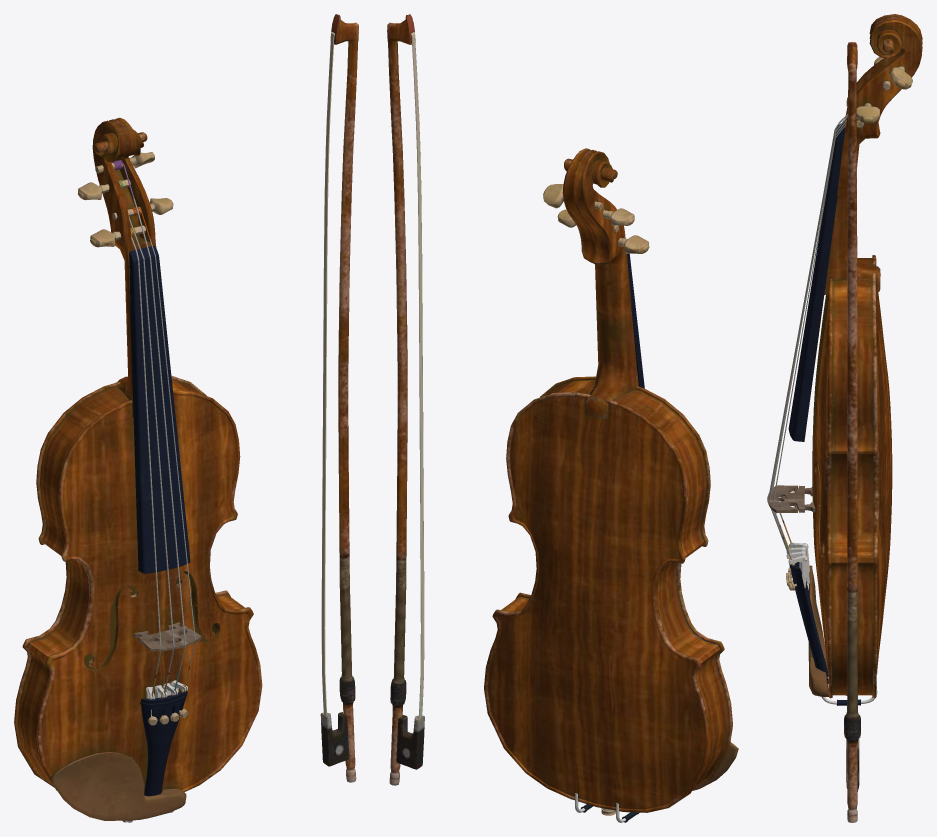
The model's file is violin.glb.
3 views of the same model, side by side, from view 1: azimuth 30°, elevation 25°; view 2: azimuth 150°, elevation 25°; view 3: azimuth 270°, elevation 25° (orthographic).
Parts seen in each view (by area): view 1: violin_low; view 2: violin_low; view 3: violin_low.
Part boxes in pixels (left/top/right/bottom): violin_low: left=14, top=14, right=358, bottom=822; violin_low: left=387, top=14, right=738, bottom=822; violin_low: left=767, top=14, right=922, bottom=822.
Size of the model in its own units: 0.9051 by 2 by 0.3642.
Materials: 1 (1 with a texture image).
